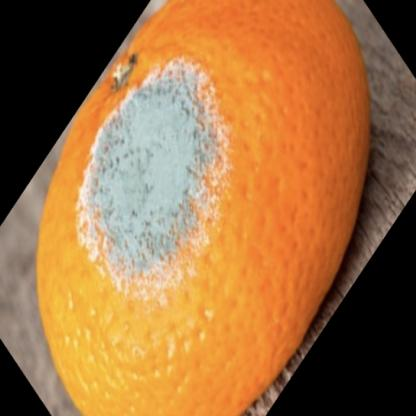rotten: (40, 1, 371, 416)
